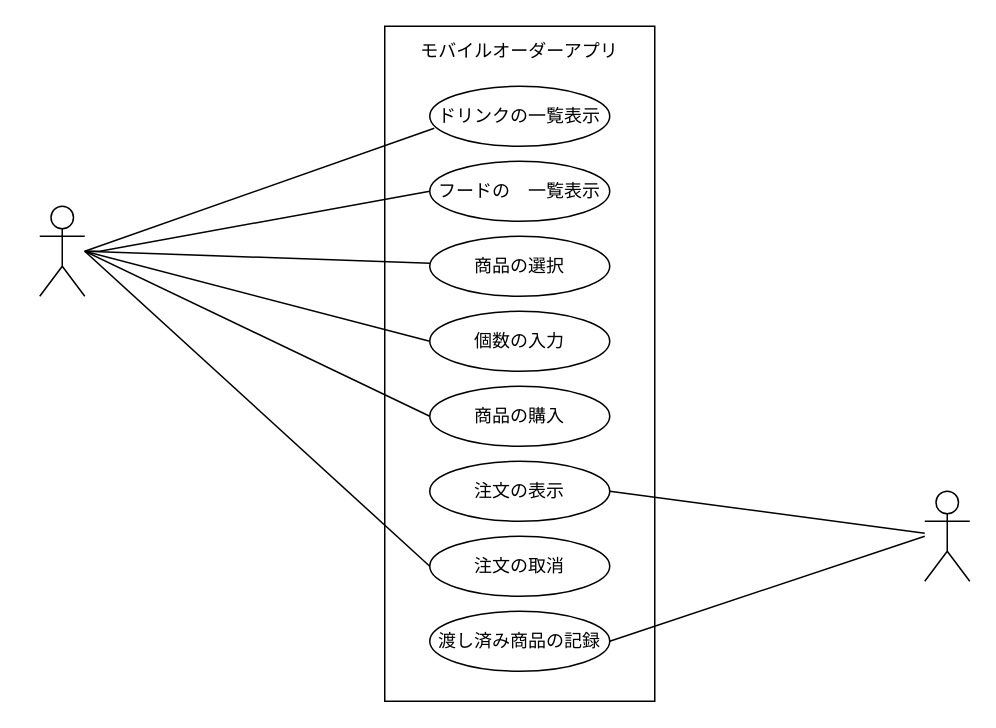
Some shapes in this 996 by 728 pixel diagram are drawn without their labels. Here are the shapes that lost their labels. From the top down, the centre of each, then its label:
At point 61,250: "お客さま".
At point 946,535: "店員".
